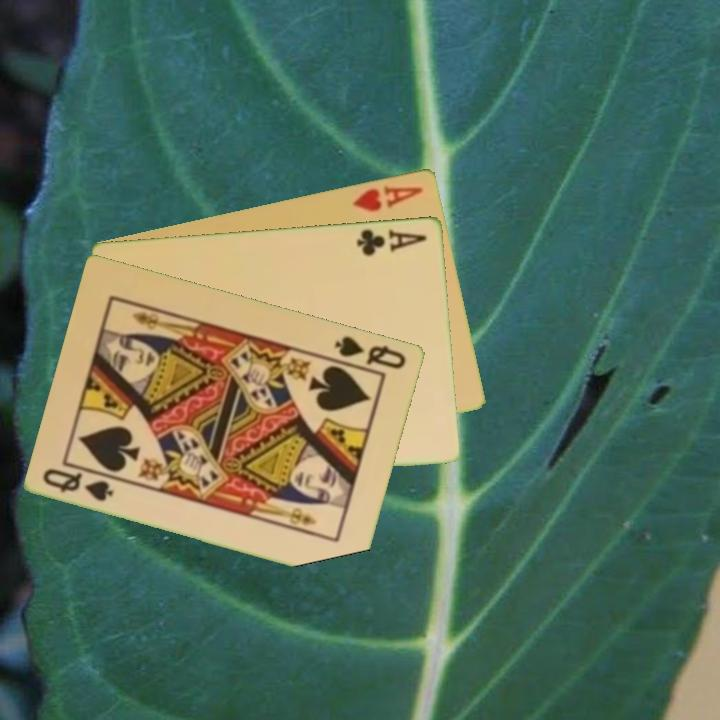Ac: (353, 225, 430, 259)
Ah: (349, 181, 426, 214)
Qs: (331, 332, 410, 372), (40, 464, 117, 504)
